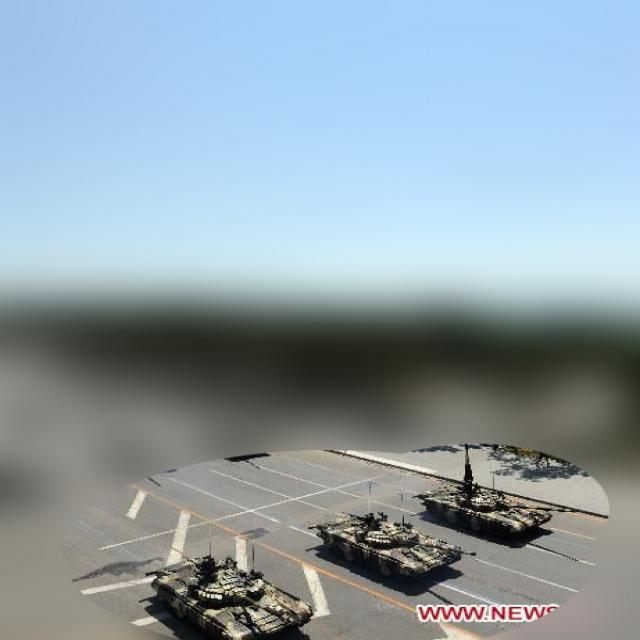tank: (152, 552, 313, 640), (315, 510, 482, 581), (416, 482, 588, 543)
